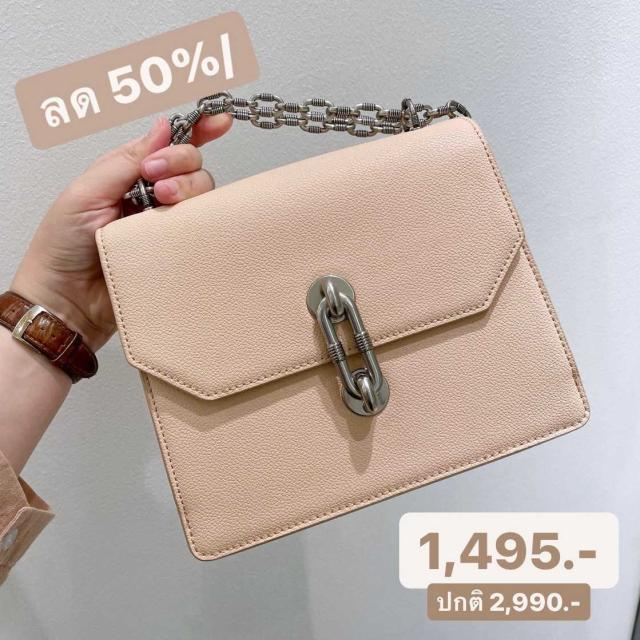Handbag: (87, 117, 623, 568)
